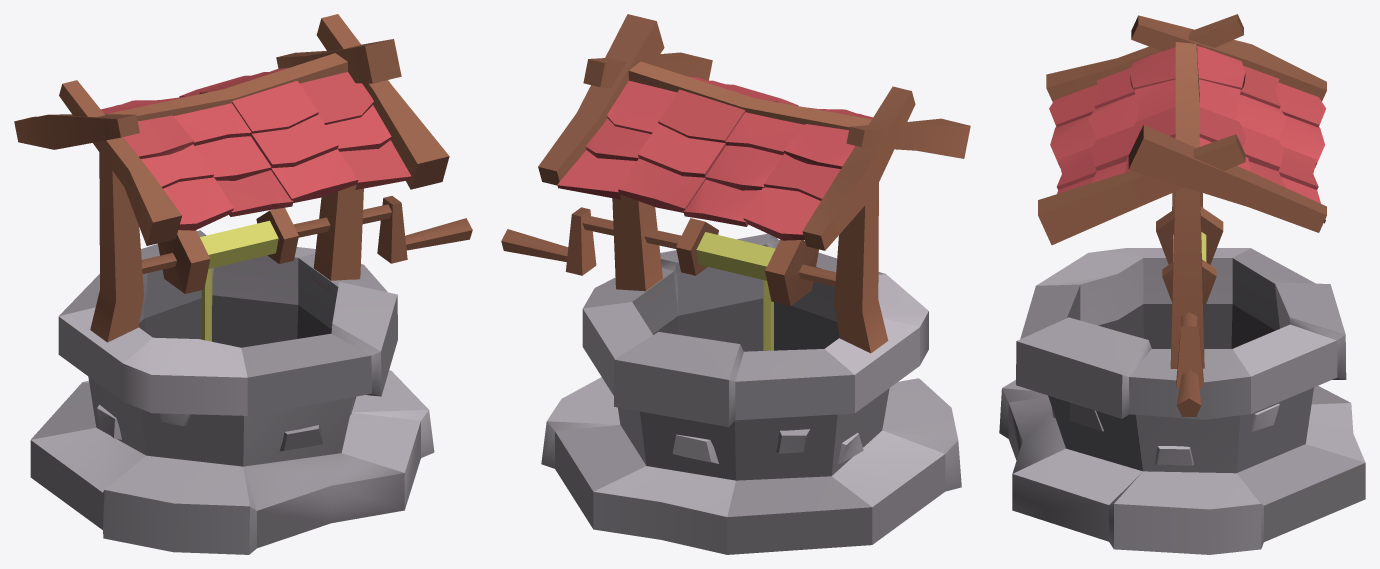
File: Well.fbx
3 views of the same model, side by side, from view 1: azimuth 30°, elevation 25°; view 2: azimuth 150°, elevation 25°; view 3: azimuth 270°, elevation 25° (orthographic). The views are drawn at different scales.
Parts seen in each view (by area): view 1: Well_1; view 2: Well_1; view 3: Well_1.
Part boxes in pixels (box(x1,y1,x2,y2)): Well_1: box(14, 14, 472, 554); Well_1: box(501, 14, 970, 554); Well_1: box(999, 14, 1365, 554).
Bounding box in the file's own units: 0.0338 × 0.0325 × 0.027.
